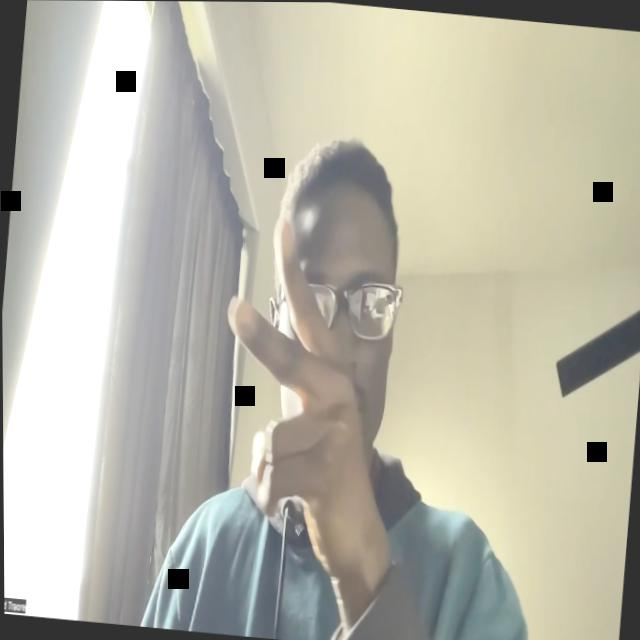Scissors: (203, 211, 407, 586)
